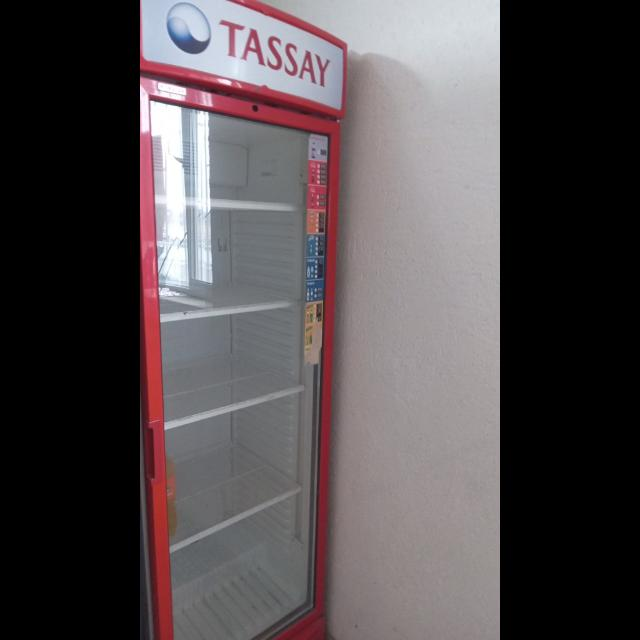Cooling-Display: (140, 1, 348, 640)
